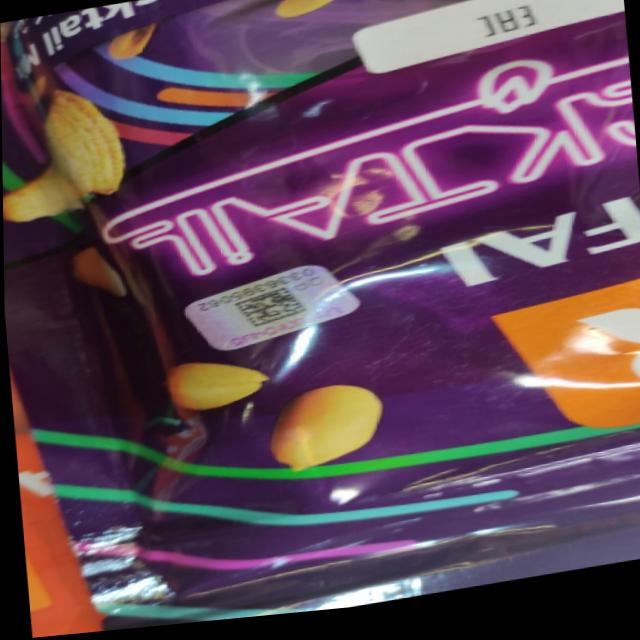datamatrix: (229, 289, 308, 336)
